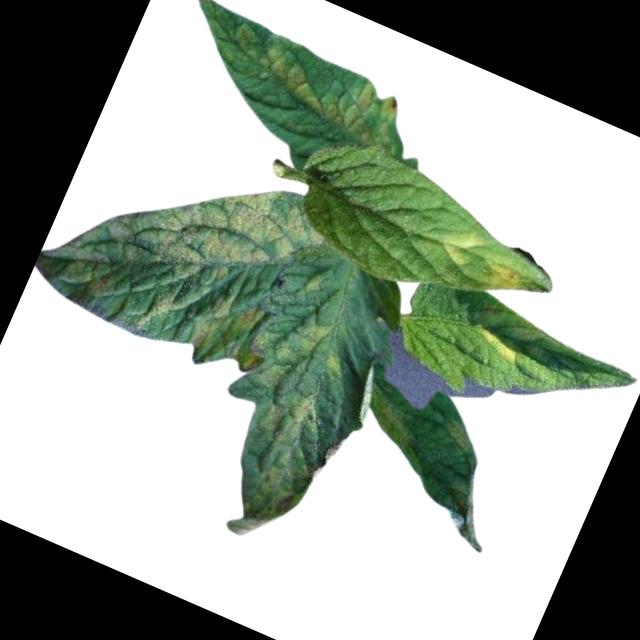Leaf_Mold: (29, 111, 335, 384), (176, 296, 388, 560), (211, 15, 408, 152), (471, 248, 529, 301), (435, 219, 489, 271), (434, 412, 480, 455), (469, 328, 521, 366)
